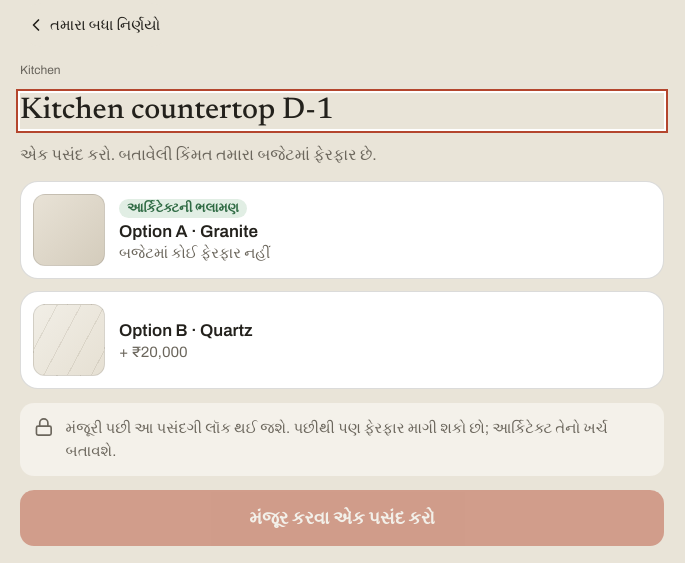
Test: U2b — one decision on its own screen › speaks the client's language
Click the radio button with test id "decision-option-D-1-A". click: point(69, 230)
box: [20,181,664,279]
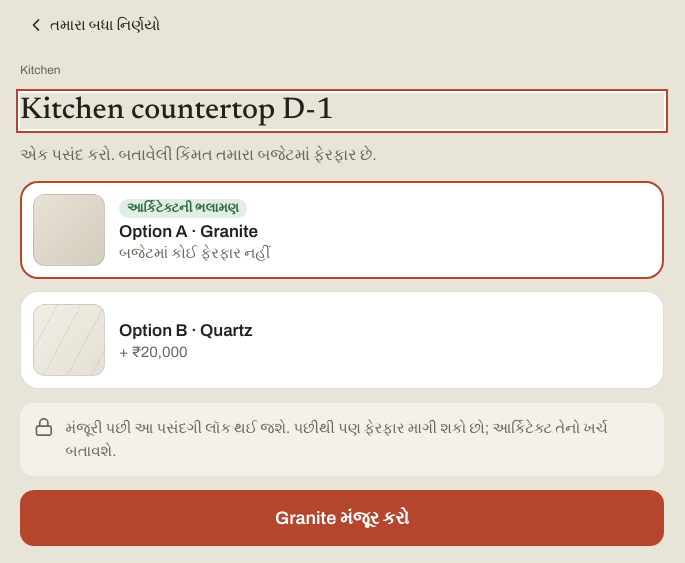
Now the button with test id "decision-focus-approve" reads "Granite મંજૂર કરો", box [20,490,664,546]
